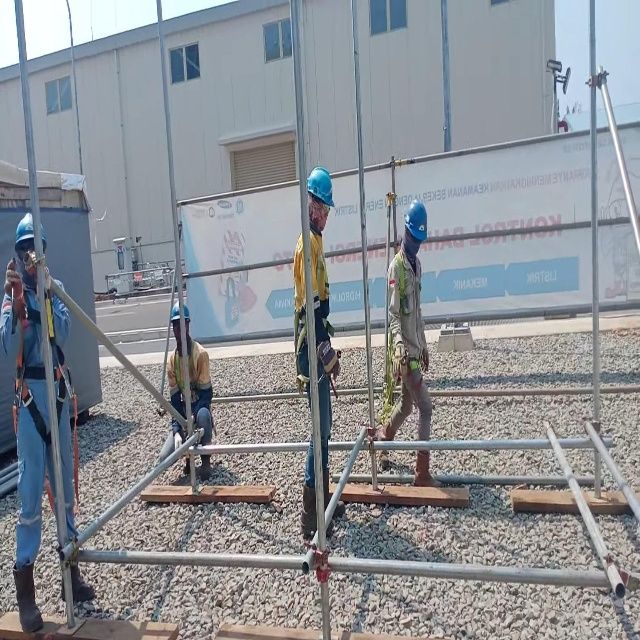Arnes_seguridad: (11, 273, 79, 516), (383, 247, 423, 417), (293, 225, 332, 389), (174, 339, 198, 430)
